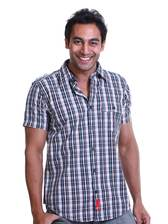clothoes: (17, 58, 149, 219)
